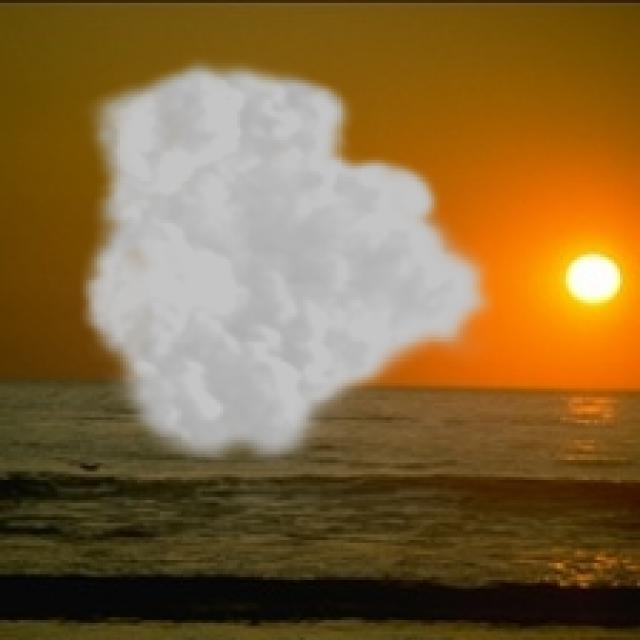Smoke: (77, 54, 500, 474)
